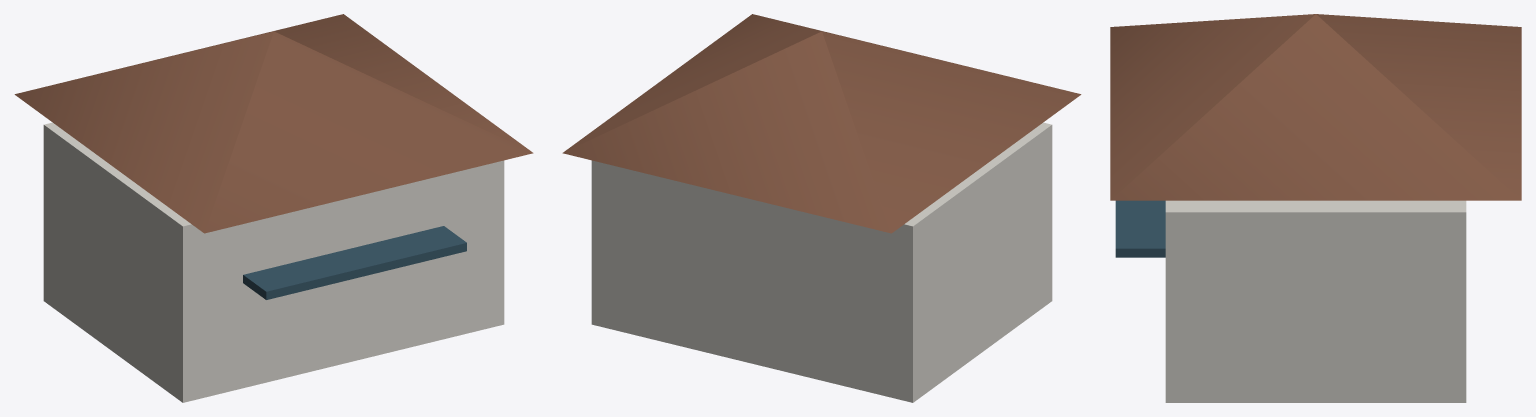
The model's file is market-hall.gltf.
3 renders of one model, left to right at view 1: azimuth 30°, elevation 25°; view 2: azimuth 150°, elevation 25°; view 3: azimuth 270°, elevation 25°, orthographic. The views are drawn at different scales.
Size of the model in its own units: 8.2 by 6.7 by 8.2.
